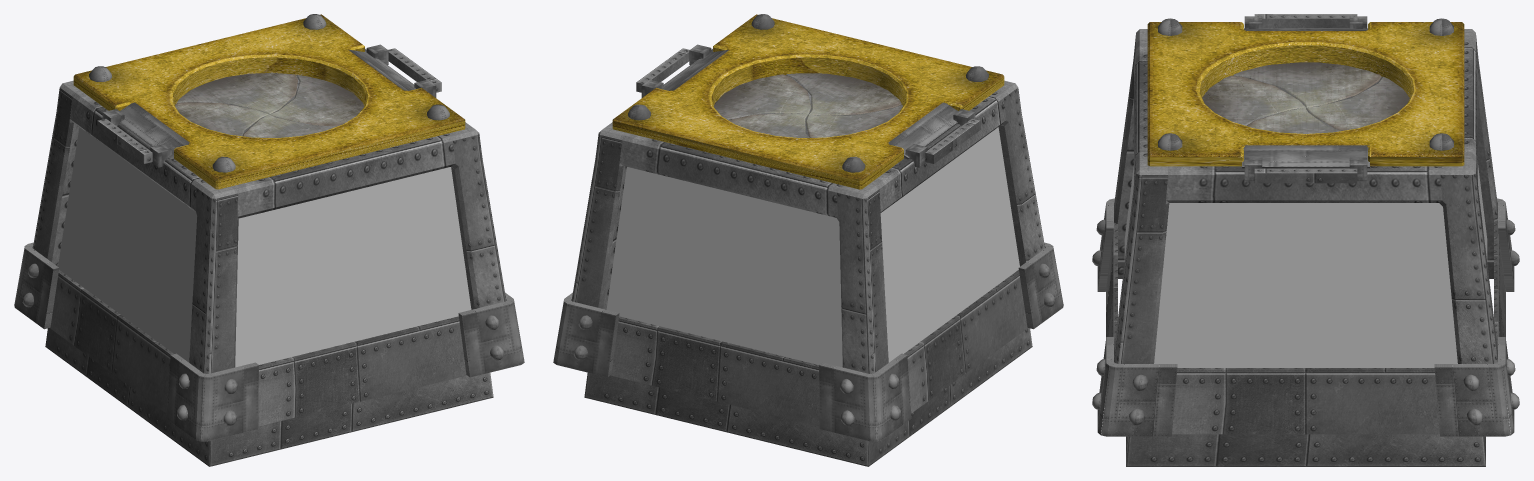
File: static.fbx
The picture shows the model from 3 angles, left to right: view 1: azimuth 30°, elevation 25°; view 2: azimuth 150°, elevation 25°; view 3: azimuth 270°, elevation 25°; orthographic projection. The views are drawn at different scales.
Parts seen in each view (by area): view 1: Plane, Boole, Plane_2, frame, Cube_4, Cube_3, frame_2, Cube_7, frame_3, Cube_6, Cube_8, Extrude_6 (+8 smaller); view 2: Plane_3, Boole, Plane_2, frame_3, Cube_10, Cube_3, frame_2, Cube_7, frame_4, Cube_14, Cube_12, Extrude (+8 smaller); view 3: Plane_4, Boole, Cube_13, frame_4, Cube_3, frame, Cube_5, Cube_15, frame_3, Extrude_4, Extrude, Cube (+11 smaller).
Boxes of the visible parts, bbox=[...] form: Plane: bbox=[235, 167, 471, 367]; Boole: bbox=[73, 14, 465, 189]; Plane_2: bbox=[58, 127, 197, 362]; frame: bbox=[231, 122, 506, 309]; Cube_4: bbox=[258, 316, 466, 426]; Cube_3: bbox=[45, 75, 493, 466]; frame_2: bbox=[70, 90, 238, 433]; Cube_7: bbox=[50, 270, 173, 413]; frame_3: bbox=[33, 80, 79, 266]; Cube_6: bbox=[458, 300, 524, 377]; Cube_8: bbox=[201, 362, 258, 441]; Extrude_6: bbox=[177, 73, 297, 114]; Plane_3: bbox=[606, 167, 842, 367]; Boole: bbox=[612, 14, 1004, 189]; Plane_2: bbox=[880, 127, 1019, 362]; frame_3: bbox=[620, 132, 888, 433]; Cube_10: bbox=[611, 316, 819, 426]; Cube_3: bbox=[584, 75, 1032, 466]; frame_2: bbox=[869, 80, 1044, 266]; Cube_7: bbox=[904, 270, 1027, 413]; frame_4: bbox=[571, 49, 712, 309]; Cube_14: bbox=[553, 300, 619, 377]; Cube_12: bbox=[819, 362, 876, 441]; Extrude: bbox=[786, 73, 901, 115]; Plane_4: bbox=[1154, 203, 1457, 367]; Boole: bbox=[1147, 22, 1464, 166]; Cube_13: bbox=[1172, 368, 1439, 434]; frame_4: bbox=[1165, 159, 1497, 363]; Cube_3: bbox=[1126, 77, 1485, 466]; frame: bbox=[1114, 39, 1169, 363]; Cube_5: bbox=[1101, 363, 1177, 436]; Cube_15: bbox=[1434, 363, 1510, 436]; frame_3: bbox=[1464, 29, 1497, 278]; Extrude_4: bbox=[1233, 62, 1381, 107]; Extrude: bbox=[1202, 75, 1305, 125]; Cube: bbox=[1254, 14, 1357, 183].
Size of the model in its own units: 205 by 166 by 205.
